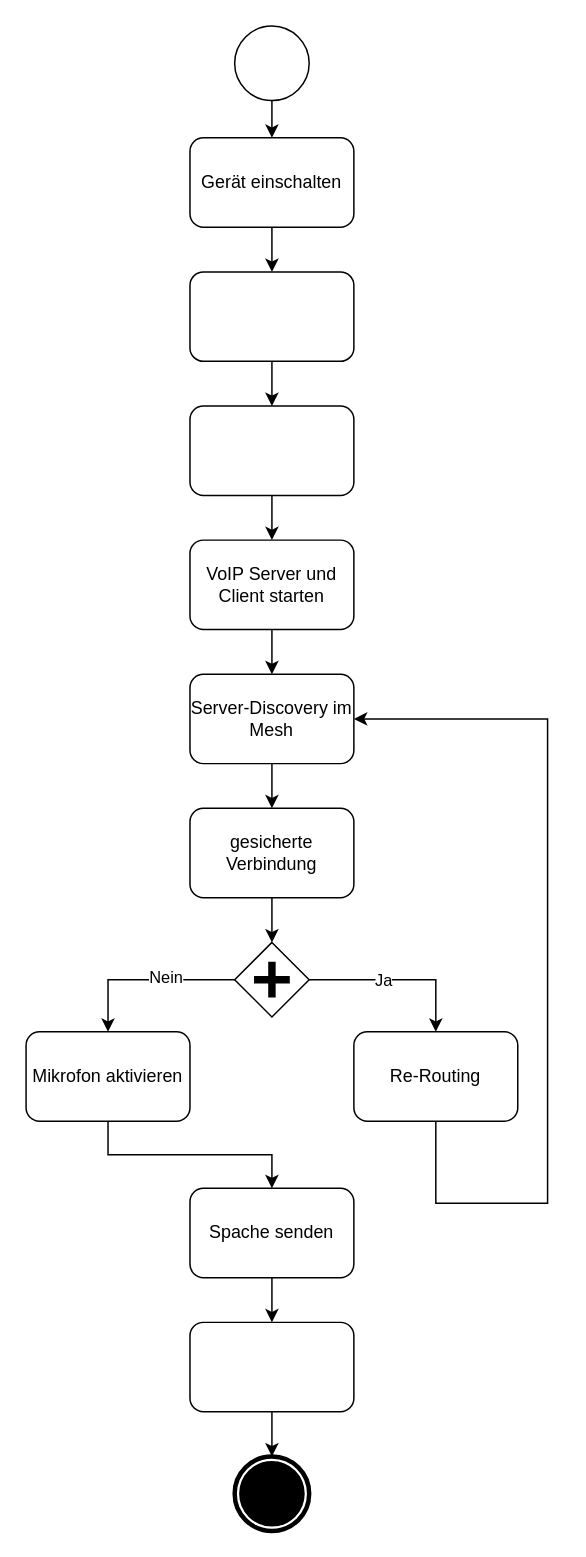
Image size: 586x1557. Some labels were removed from this diagram. The centre of each missing label's shape, as x and y in pixels:
"Autostart Systemdienste" belongs at pixel 271 315.
"Empfang am Zielknoten und Ausgabe" belongs at pixel 271 1366.
"Knotenausfall?" belongs at pixel 271 979.
"WLAN Mesh initialisieren" belongs at pixel 271 450.
